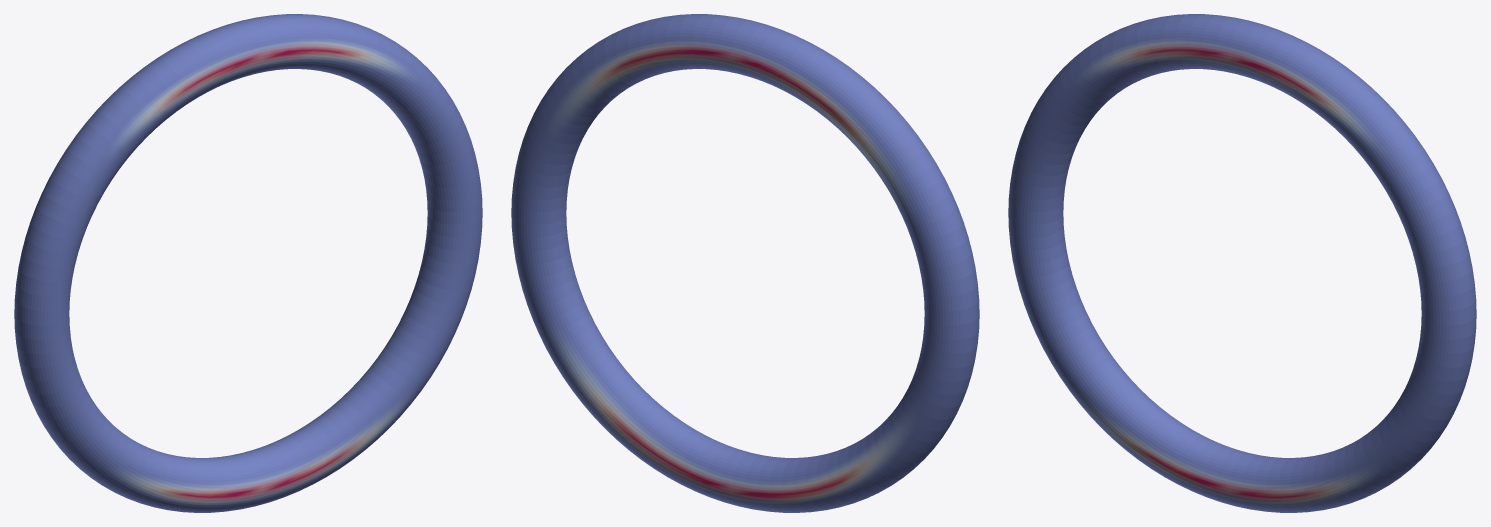
3 views of the same model, side by side, from view 1: azimuth 30°, elevation 25°; view 2: azimuth 150°, elevation 25°; view 3: azimuth 330°, elevation 25° (orthographic).
Parts seen in each view (by area): view 1: world; view 2: world; view 3: world.
Boxes of the visible parts, <box> form: world: <box>14,14,482,512</box>; world: <box>511,14,979,512</box>; world: <box>1008,14,1476,512</box>.
Size of the model in its own units: 19.33 by 19.33 by 2.
